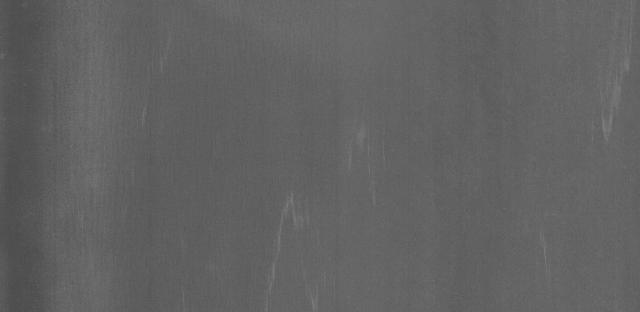silk_spot: (260, 111, 390, 312)
